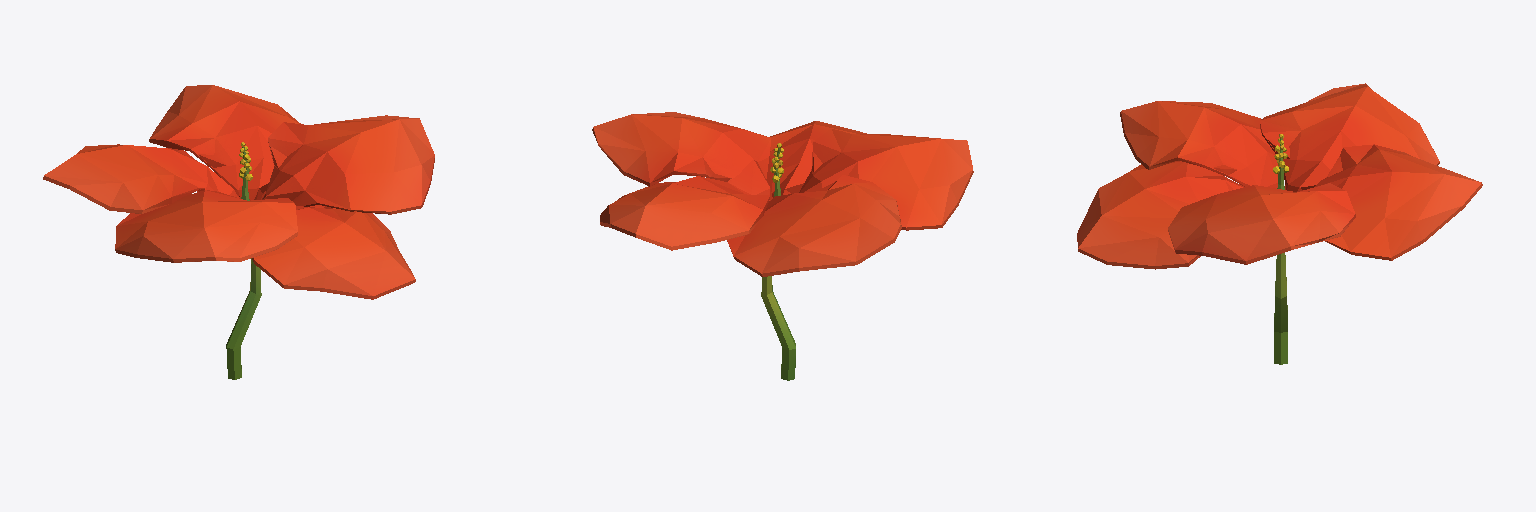
3 renders of one model, left to right at view 1: azimuth 30°, elevation 25°; view 2: azimuth 150°, elevation 25°; view 3: azimuth 270°, elevation 25°, orthographic.
Parts seen in each view (by area): view 1: HibiscusFlower_mesh; view 2: HibiscusFlower_mesh; view 3: HibiscusFlower_mesh.
Part boxes in pixels (left/top/right/bottom): HibiscusFlower_mesh: left=43, top=85, right=434, bottom=379; HibiscusFlower_mesh: left=592, top=112, right=973, bottom=380; HibiscusFlower_mesh: left=1077, top=83, right=1482, bottom=364.
Size of the model in its own units: 11.11 by 7.26 by 11.49.
1 materials, 1 textured.